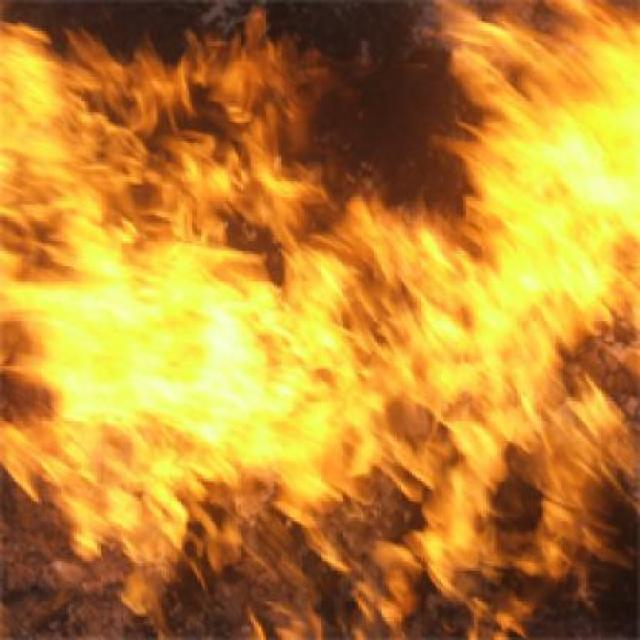Fire: (0, 17, 640, 620)
